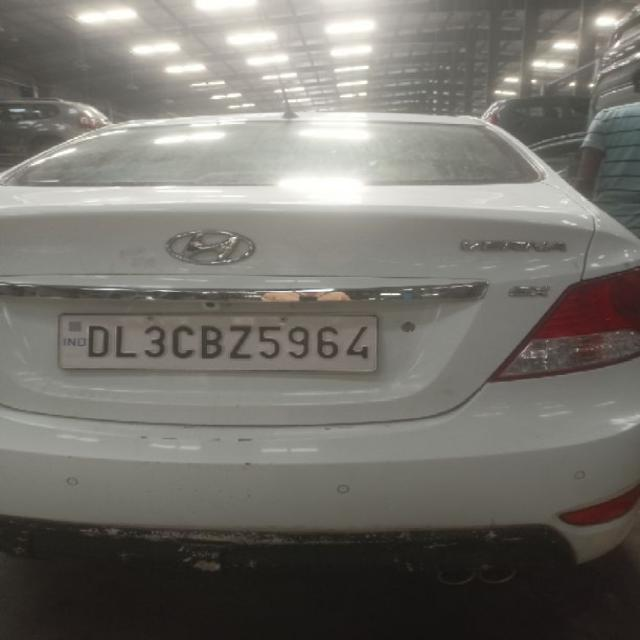license_plate: (56, 312, 378, 374)
